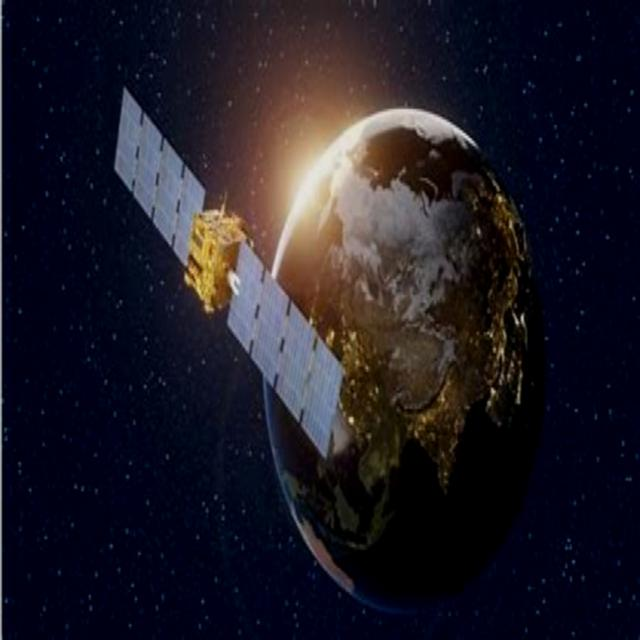satellite: (101, 69, 349, 476)
